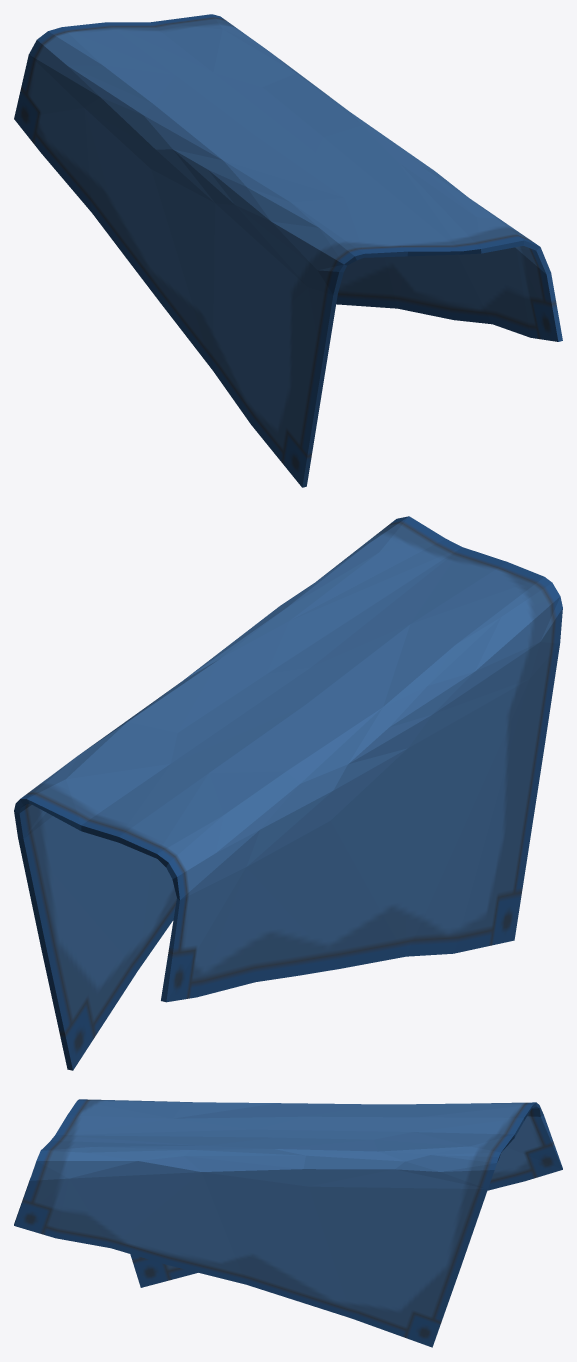
File: SM_Prop_Scaffold_Preset_02_Tarp.fbx
The picture shows the model from 3 angles, top to bottom: view 1: azimuth 30°, elevation 25°; view 2: azimuth 150°, elevation 25°; view 3: azimuth 270°, elevation 25°; orthographic projection. The views are drawn at different scales.
Visible parts, largest first — view 1: SM_Prop_Scaffold_Preset_02_Tarp; view 2: SM_Prop_Scaffold_Preset_02_Tarp; view 3: SM_Prop_Scaffold_Preset_02_Tarp.
Part boxes in pixels (<box>): SM_Prop_Scaffold_Preset_02_Tarp: <box>14,14,562,487</box>; SM_Prop_Scaffold_Preset_02_Tarp: <box>14,516,562,1070</box>; SM_Prop_Scaffold_Preset_02_Tarp: <box>14,1099,562,1347</box>.
Bounding box in the file's own units: 98.18 × 138 × 355.
